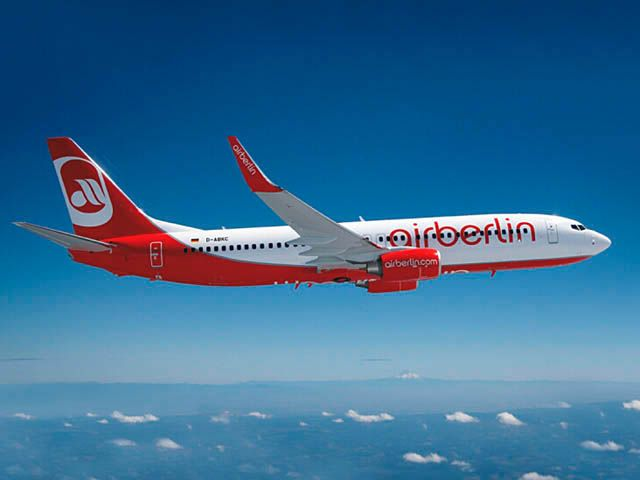Aeronef_commercial: (11, 129, 620, 307)
